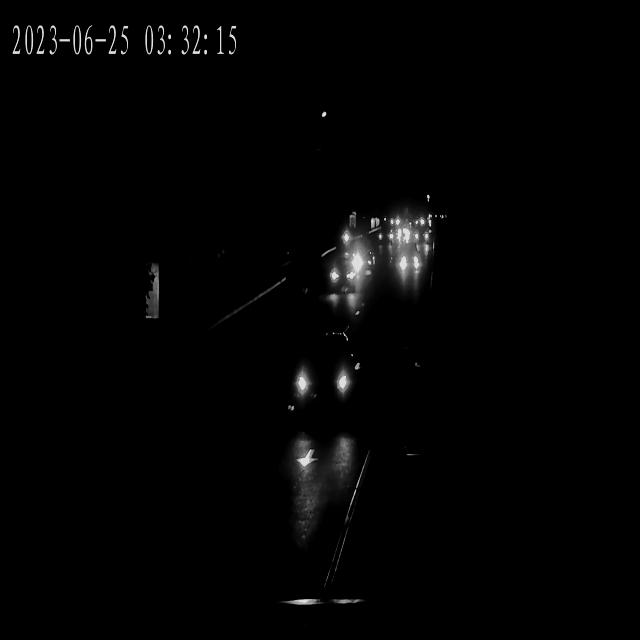Car: (288, 335, 362, 413), (324, 263, 361, 294), (343, 244, 376, 272), (394, 251, 422, 277), (406, 230, 430, 248), (377, 228, 399, 246)
